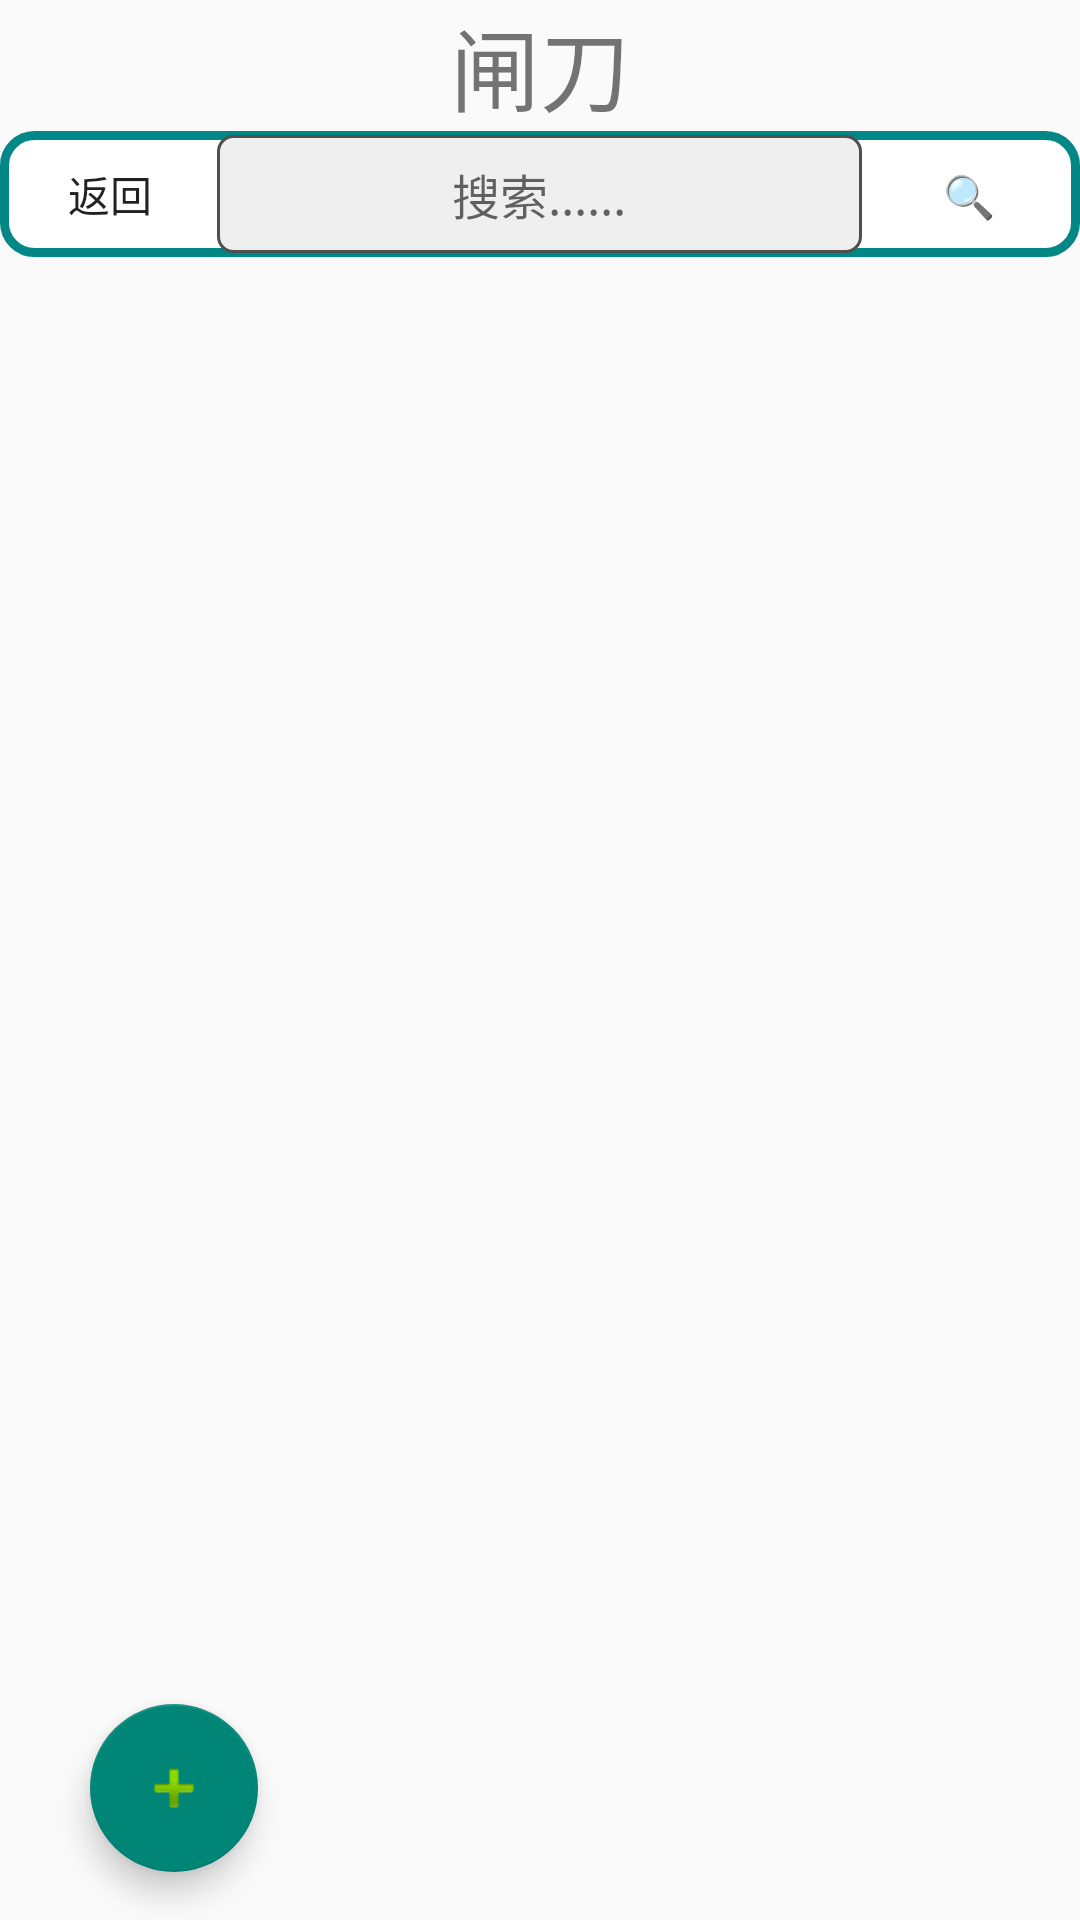

Icon click points for this 1080w x 1920h phone screenshot, format (x=x, y=y):
add: (x=174, y=1788)
